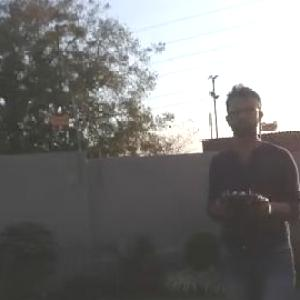follow: (203, 75, 300, 299)
